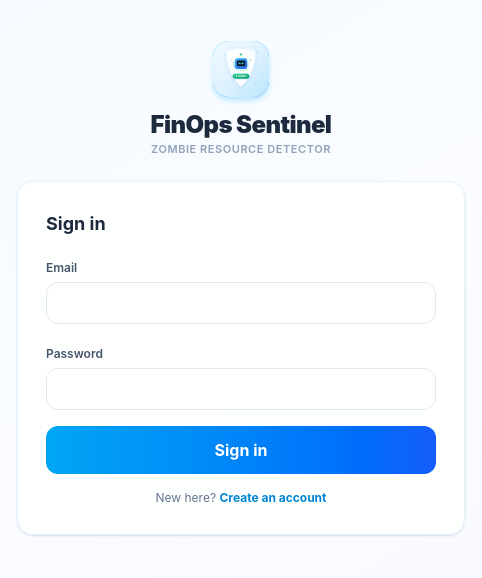
it: authentication › rejects a wrong password with the server message
Step 1. Type "user@example.com" into the field labelled "Email" → [241, 303], box [46, 282, 436, 324]
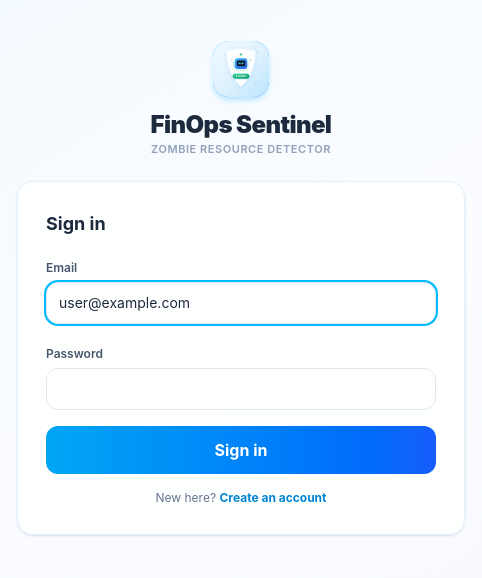
Step 2. Type "wrong-password" into the password field labelled "Password" → [241, 389], box [46, 368, 436, 410]
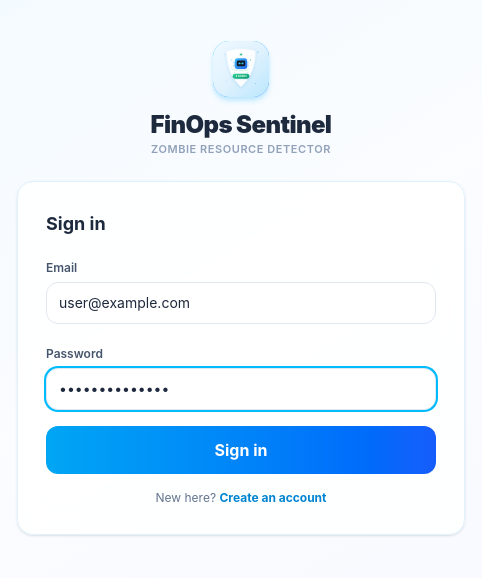
Step 3. Click the button "Sign in" → [241, 450], box [46, 426, 436, 474]
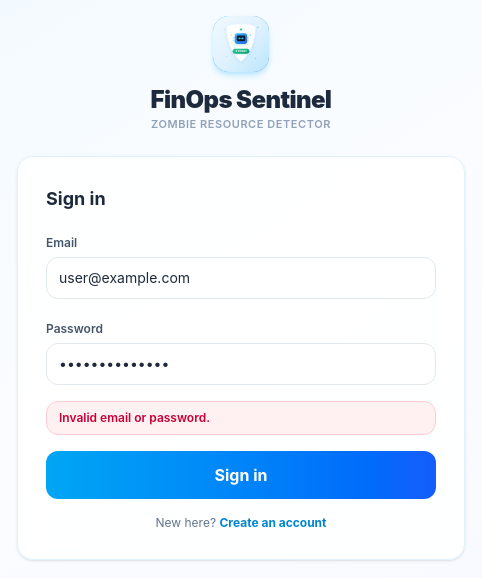
Check: the message reads "Invalid email or password.", box [59, 410, 210, 425]
